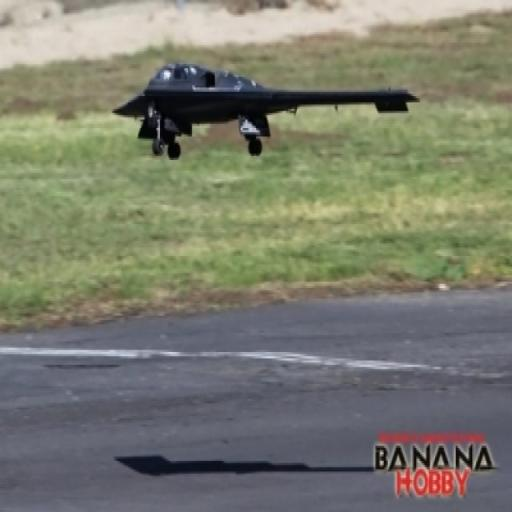uav: (104, 60, 432, 147)
